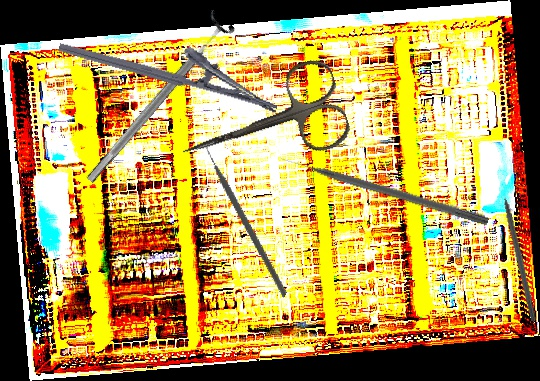Chopper: (159, 133, 338, 299)
Fixation Ring: (76, 8, 238, 192)
Hook Surgical: (498, 182, 539, 322)
Iris Scissors: (168, 55, 355, 193)
Needle Holder: (57, 12, 287, 115)
Pusher: (279, 151, 491, 227)
